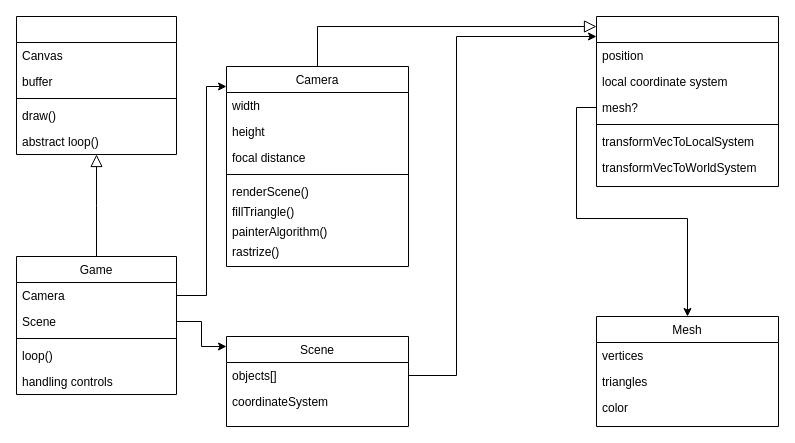
Image size: 795x443. Some labels were removed from this diagram. Here are the shapes that lost their labels. From the top down, the box of each, then its label:
(16, 16, 176, 154): RenderEngine
(596, 16, 778, 186): Entity
